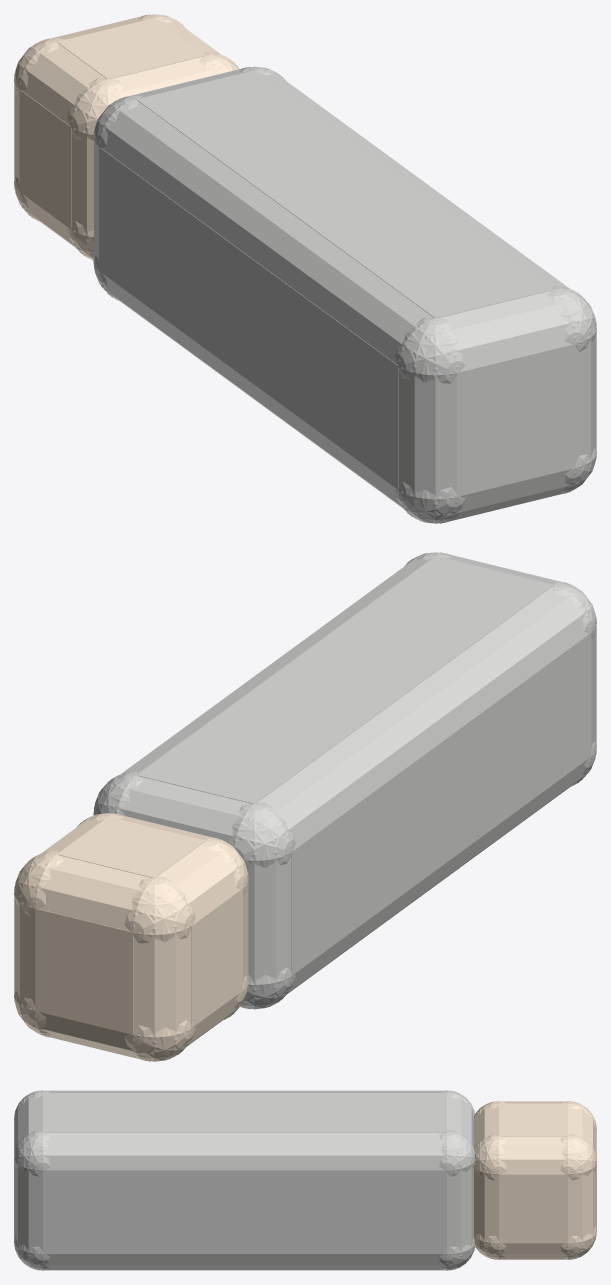
The model's file is arm_left.glb.
3 renders of one model, top to bottom at view 1: azimuth 30°, elevation 25°; view 2: azimuth 150°, elevation 25°; view 3: azimuth 270°, elevation 25°, orthographic. The views are drawn at different scales.
Parts seen in each view (by area): view 1: arm_left_x_visual, arm_left_y_visual, arm_left_edge9_visual, arm_left_z_visual, arm_left_edge5_visual, arm_left_edge3_visual, arm_left_edge8_visual, hand_left_x_visual, hand_left_y_visual, arm_left_edge11_visual, hand_left_edge9_visual, arm_left_edge1_visual (+8 smaller); view 2: arm_left_x_visual, arm_left_y_visual, arm_left_edge9_visual, hand_left_z_visual, hand_left_edge4_visual, hand_left_edge2_visual, arm_left_edge4_visual, arm_left_edge2_visual, hand_left_x_visual, arm_left_edge8_visual, hand_left_y_visual, hand_left_edge9_visual (+11 smaller); view 3: arm_left_x_visual, arm_left_y_visual, arm_left_edge11_visual, arm_left_edge10_visual, hand_left_x_visual, hand_left_edge11_visual, arm_left_edge7_visual, arm_left_edge6_visual, hand_left_edge6_visual, hand_left_y_visual, hand_left_edge7_visual, arm_left_edge3_visual (+10 smaller).
Part boxes in pixels (x1=…): arm_left_x_visual: x1=99, y1=147, x2=398, y2=489; arm_left_y_visual: x1=136, y1=70, x2=553, y2=318; arm_left_edge9_visual: x1=93, y1=96, x2=465, y2=383; arm_left_z_visual: x1=457, y1=344, x2=575, y2=496; arm_left_edge5_visual: x1=398, y1=317, x2=458, y2=523; arm_left_edge3_visual: x1=394, y1=288, x2=596, y2=382; arm_left_edge8_visual: x1=93, y1=261, x2=465, y2=522; hand_left_x_visual: x1=19, y1=90, x2=71, y2=228; hand_left_y_visual: x1=57, y1=18, x2=205, y2=79; arm_left_edge11_visual: x1=244, y1=67, x2=596, y2=351; hand_left_edge9_visual: x1=14, y1=38, x2=123, y2=138; arm_left_edge1_visual: x1=394, y1=448, x2=596, y2=523; arm_left_x_visual: x1=291, y1=633, x2=591, y2=975; arm_left_y_visual: x1=136, y1=556, x2=553, y2=803; arm_left_edge9_visual: x1=227, y1=582, x2=596, y2=868; hand_left_z_visual: x1=35, y1=908, x2=133, y2=1034; hand_left_edge4_visual: x1=131, y1=877, x2=191, y2=1061; hand_left_edge2_visual: x1=14, y1=853, x2=195, y2=941; arm_left_edge4_visual: x1=232, y1=802, x2=291, y2=1009; arm_left_edge2_visual: x1=93, y1=774, x2=295, y2=867; hand_left_x_visual: x1=191, y1=888, x2=242, y2=1027; arm_left_edge8_visual: x1=241, y1=746, x2=596, y2=1008; hand_left_y_visual: x1=57, y1=816, x2=205, y2=877; hand_left_edge9_visual: x1=124, y1=837, x2=248, y2=943; arm_left_x_visual: x1=43, y1=1170, x2=446, y2=1253; arm_left_y_visual: x1=43, y1=1093, x2=446, y2=1132; arm_left_edge11_visual: x1=14, y1=1132, x2=474, y2=1171; arm_left_edge10_visual: x1=14, y1=1237, x2=474, y2=1270; hand_left_x_visual: x1=499, y1=1174, x2=567, y2=1243; hand_left_edge11_visual: x1=474, y1=1136, x2=596, y2=1175; arm_left_edge7_visual: x1=14, y1=1130, x2=50, y2=1270; arm_left_edge6_visual: x1=439, y1=1130, x2=473, y2=1270; hand_left_edge6_visual: x1=560, y1=1134, x2=596, y2=1259; hand_left_y_visual: x1=499, y1=1103, x2=567, y2=1136; hand_left_edge7_visual: x1=474, y1=1134, x2=506, y2=1259; arm_left_edge3_visual: x1=14, y1=1090, x2=50, y2=1176.
Size of the model in its own units: 0.13 by 0.13 by 0.505.
